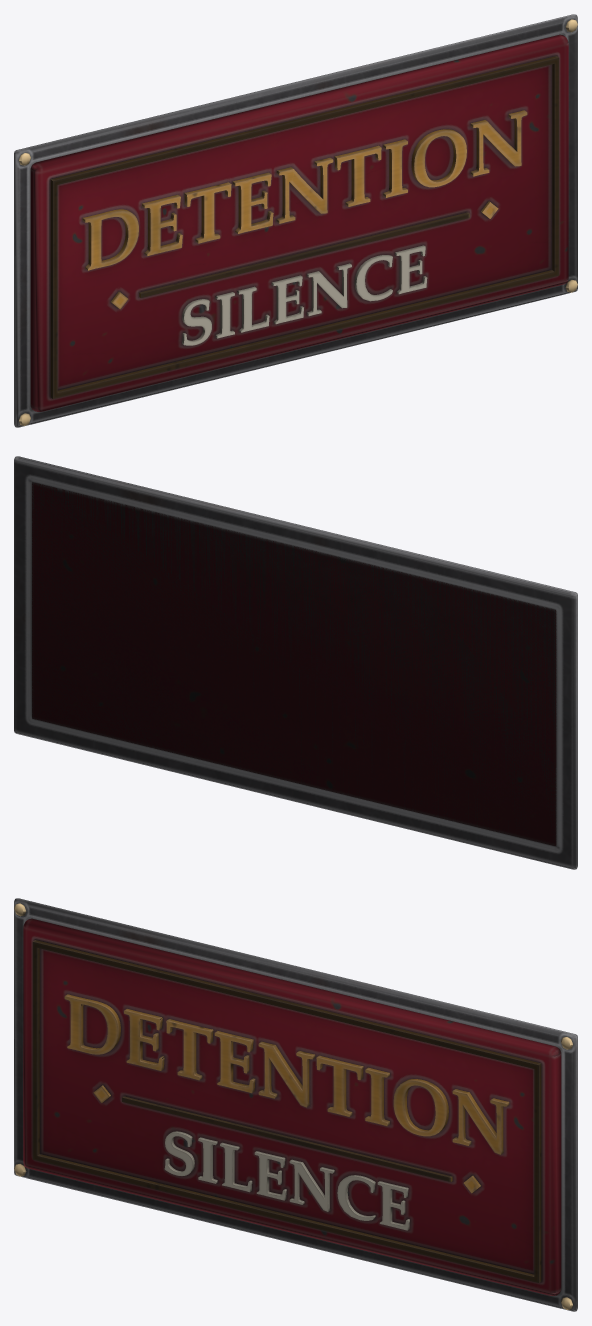
The model's file is DetentionSign.fbx.
3 views of the same model, one above another, from view 1: azimuth 30°, elevation 25°; view 2: azimuth 150°, elevation 25°; view 3: azimuth 330°, elevation 25° (orthographic).
Visible parts, largest first — view 1: DetentionSign; view 2: DetentionSign; view 3: DetentionSign.
Boxes of the visible parts, box(x1,y1,x2,y2) form: DetentionSign: box(14, 14, 577, 427); DetentionSign: box(14, 456, 577, 869); DetentionSign: box(14, 898, 577, 1311).
Bounding box in the file's own units: 274 × 129 × 10.2.
